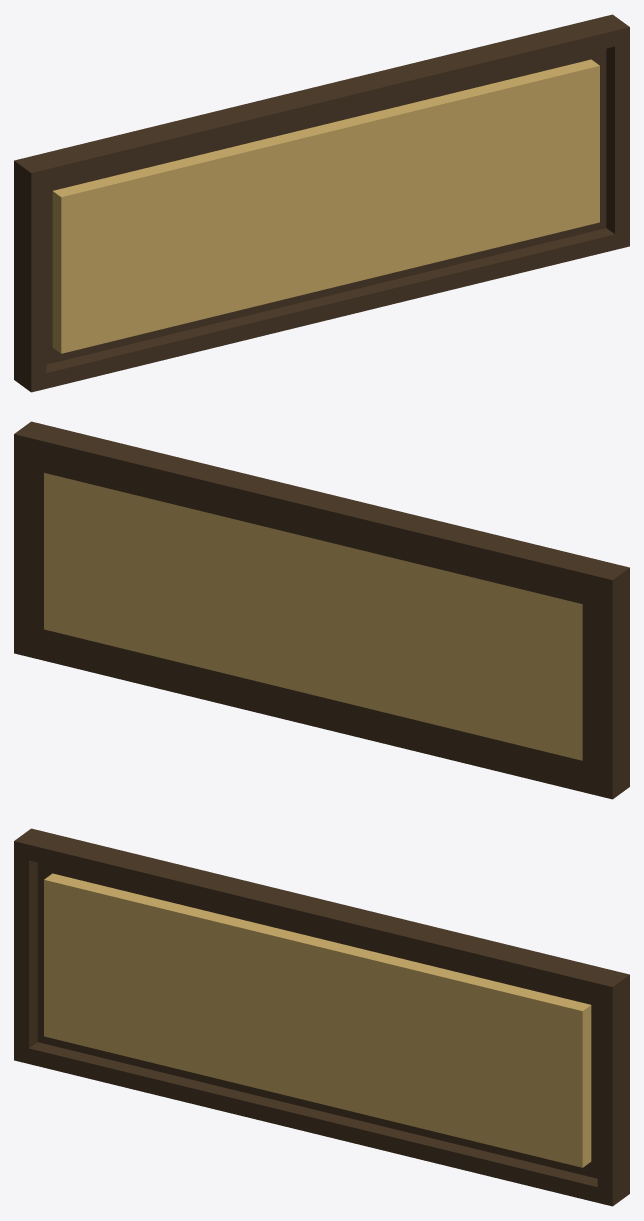
The model's file is Button.obj.
The picture shows the model from 3 angles, top to bottom: view 1: azimuth 30°, elevation 25°; view 2: azimuth 150°, elevation 25°; view 3: azimuth 330°, elevation 25°; orthographic projection.
Visible parts, largest first — view 1: Button; view 2: Button; view 3: Button.
Boxes of the visible parts, x1=… form: Button: x1=14, y1=14, x2=629, y2=392; Button: x1=14, y1=421, x2=629, y2=799; Button: x1=14, y1=828, x2=629, y2=1206.
Bounding box in the file's own units: 40 × 14 × 2.
1 material, 1 textured.
